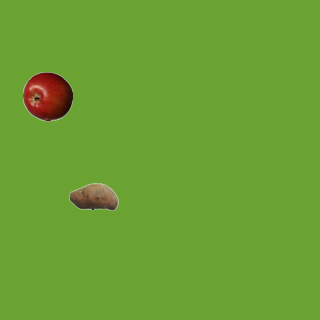Apple Braeburn: (22, 71, 72, 121)
Potato Sweet: (68, 171, 118, 221)
